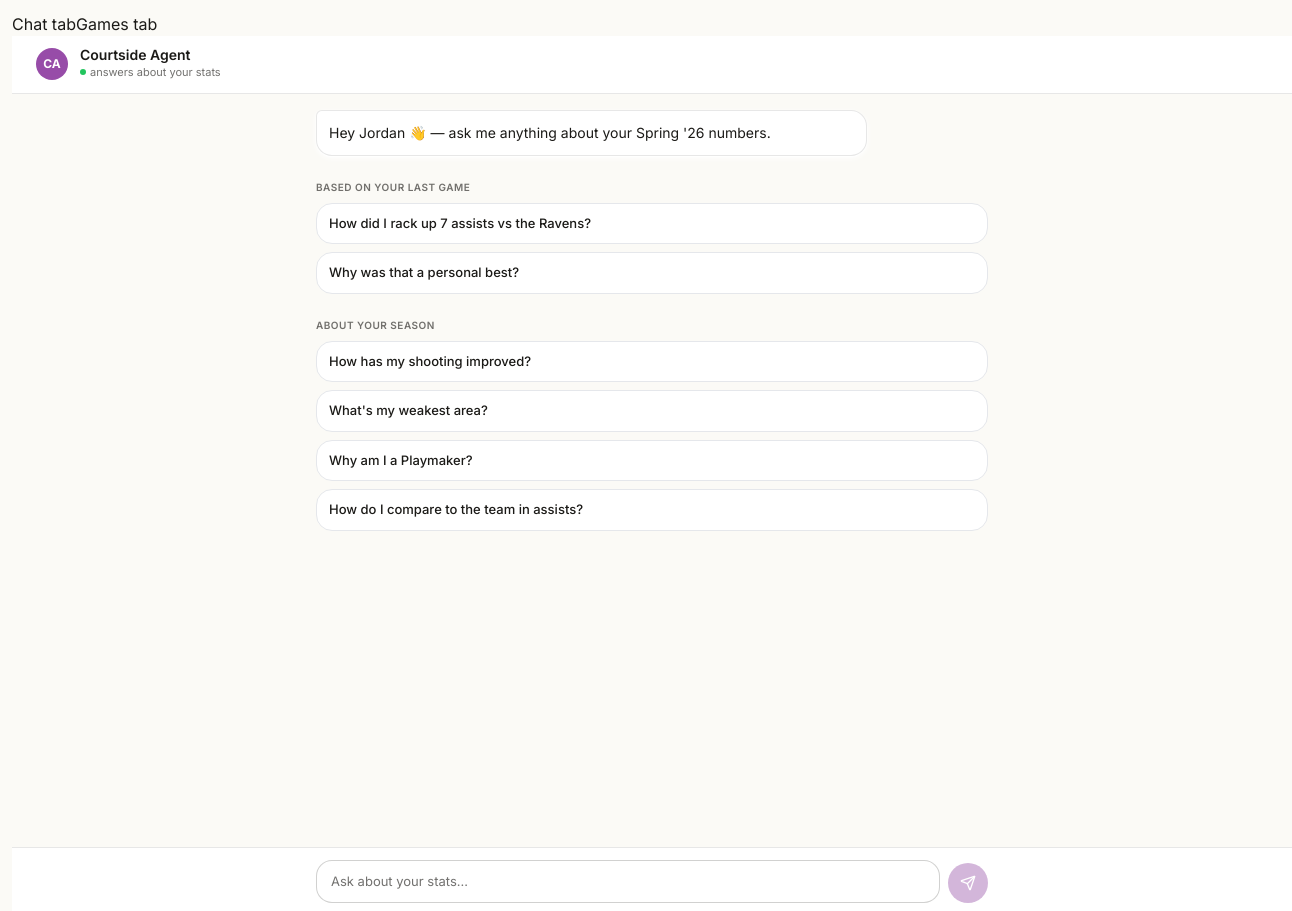
Test: ChatRoute › shows no rating buttons when the server sends no feedback token
In the text box with placeholder "Ask about your stats…": (628, 882) [331,871,925,892], type "hi"
Then press Enter
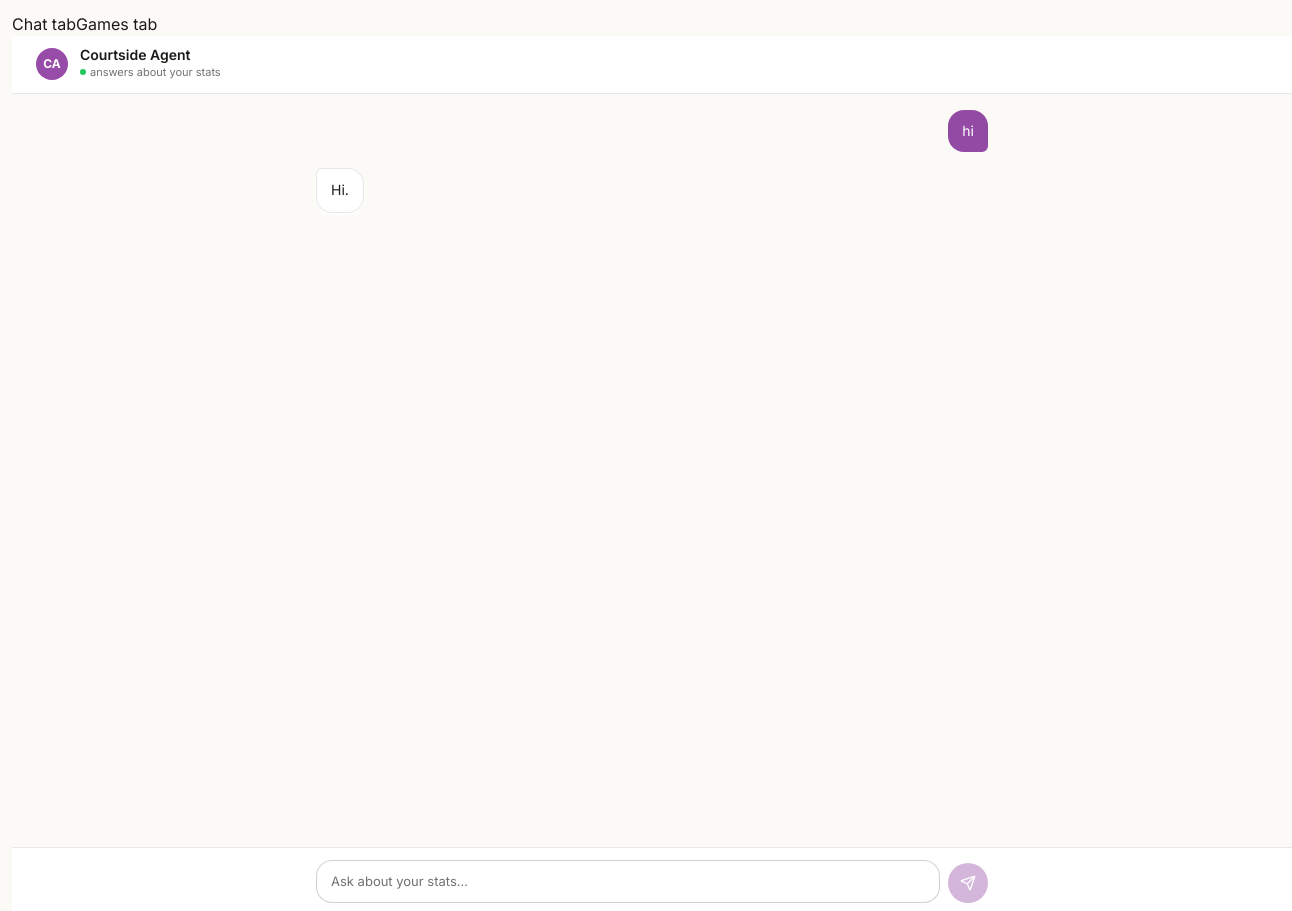
expect the text "Hi." is shown: met, box [331,179,349,202]
